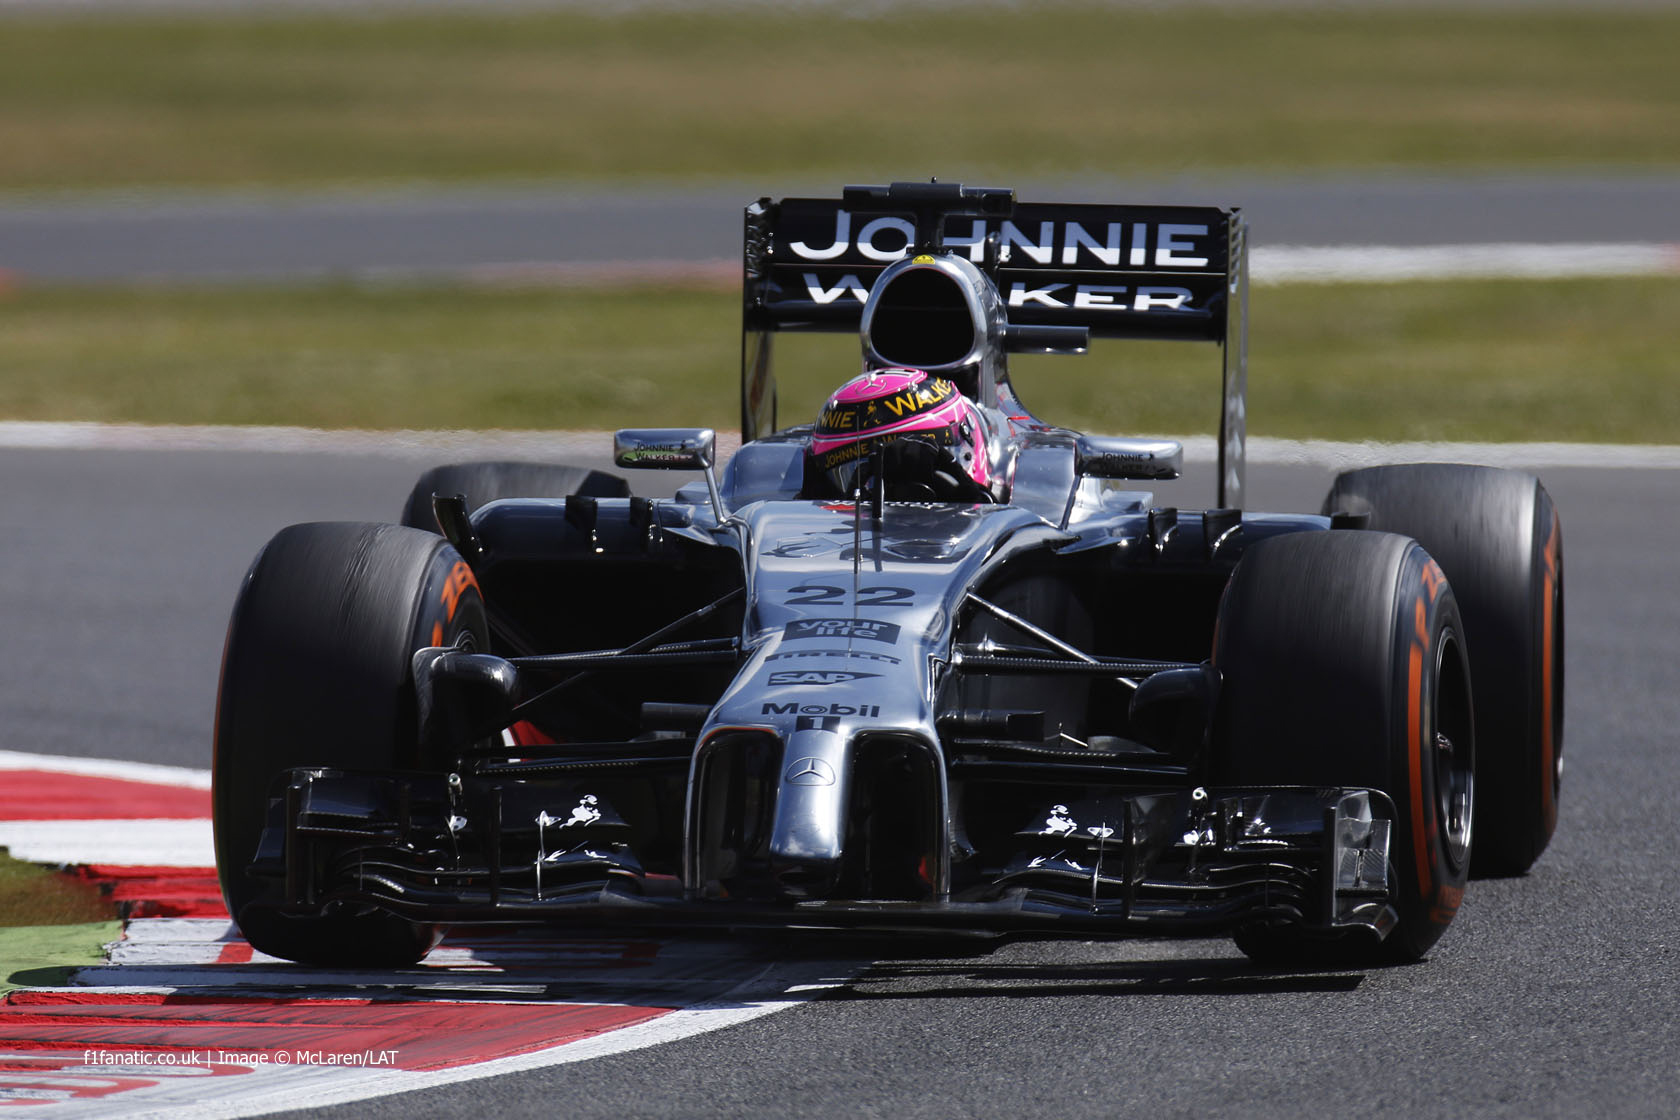F1 Car: (202, 179, 1586, 982)
